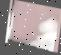dent: (2, 0, 61, 54)
